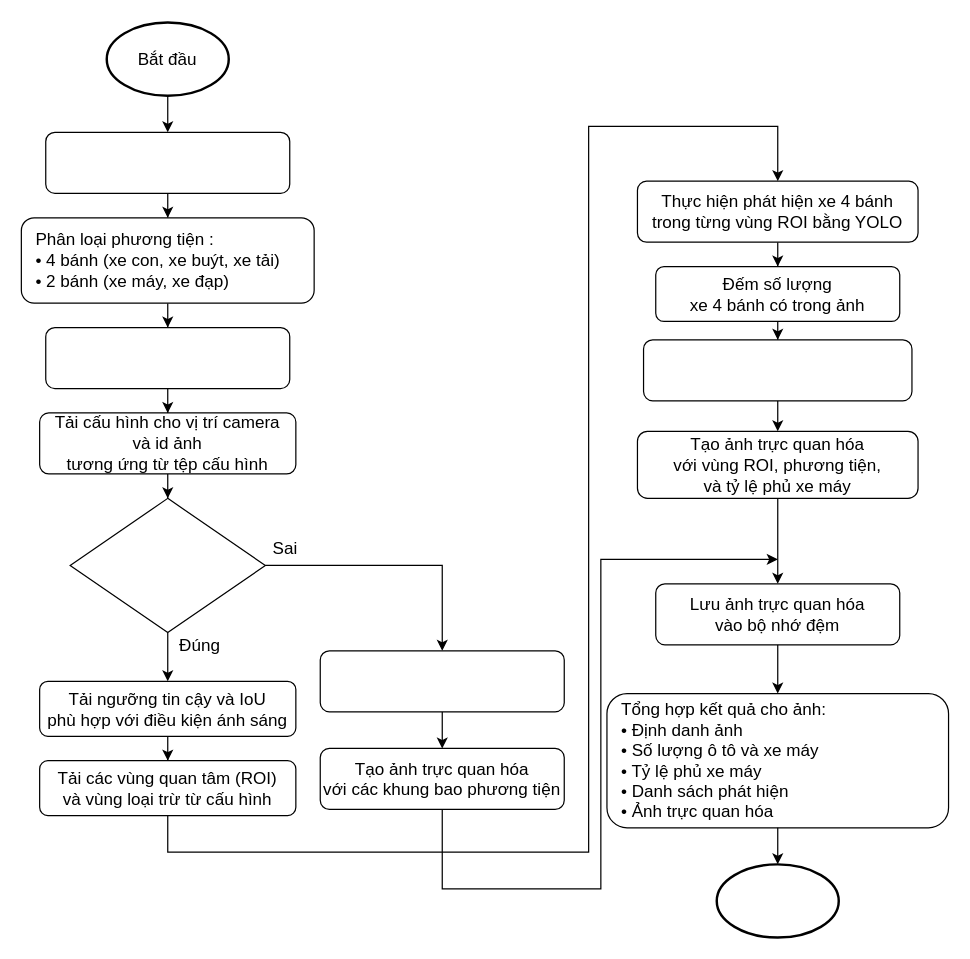
Some shapes in this 970 by 959 pixel diagram are drawn without their labels. Each missing label, with the centre of its shape:
"Có cấu hình phân vùng cho vị trí này?" belongs at point (167, 565).
"Khởi tạo mô hình YOLOv11n" belongs at point (167, 357).
"Kết thúc" belongs at point (777, 900).
"Nhận ảnh đầu vào và định danh ảnh đầu vào" belongs at point (167, 162).
"Thực hiện phát hiện xe 4 bánh và xe 2 bánh có trong ảnh" belongs at point (441, 681).
"Tính tỷ lệ phần trăm phủ của xe máy trong từng vùng ROI" belongs at point (777, 370).
